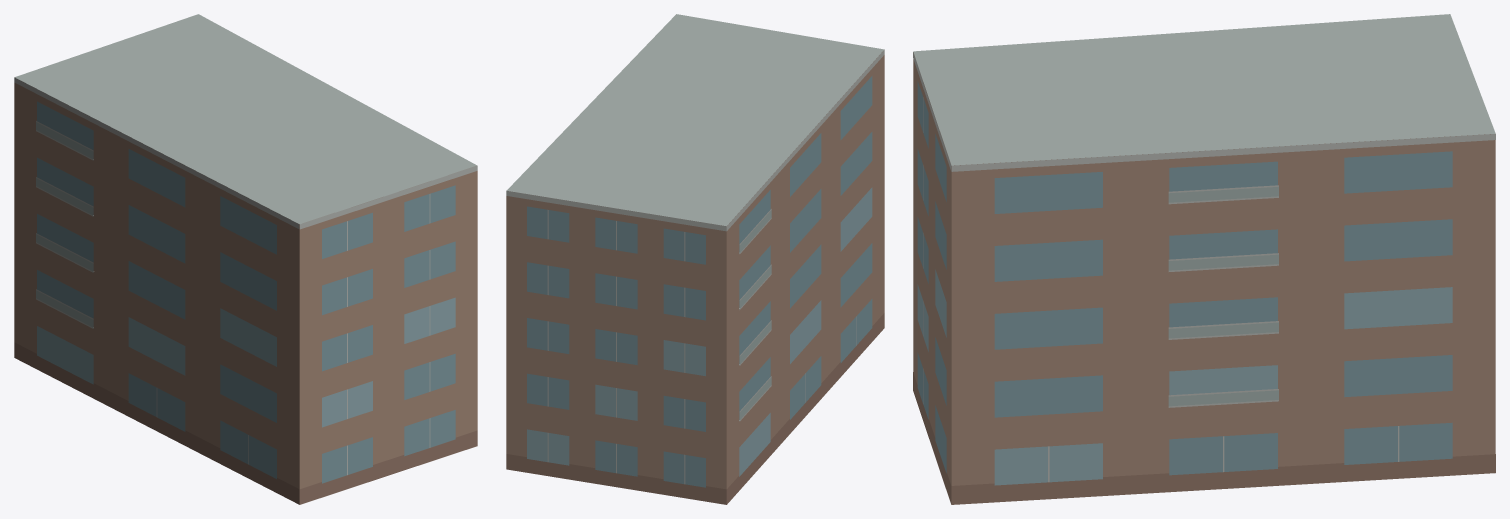
Rendered from survey-upis-32745624.glb.
3 renders of one model, left to right at view 1: azimuth 30°, elevation 25°; view 2: azimuth 150°, elevation 25°; view 3: azimuth 270°, elevation 25°, orthographic. The views are drawn at different scales.
Visible parts, largest first — view 1: survey-upis-32745624.tmp; view 2: survey-upis-32745624.tmp; view 3: survey-upis-32745624.tmp.
Boxes of the visible parts, x1,y1,x2,y2 form: survey-upis-32745624.tmp: (14,14,477,504); survey-upis-32745624.tmp: (506,14,884,504); survey-upis-32745624.tmp: (913,14,1495,504).
Bounding box in the file's own units: 12.66 × 13.2 × 20.56.
